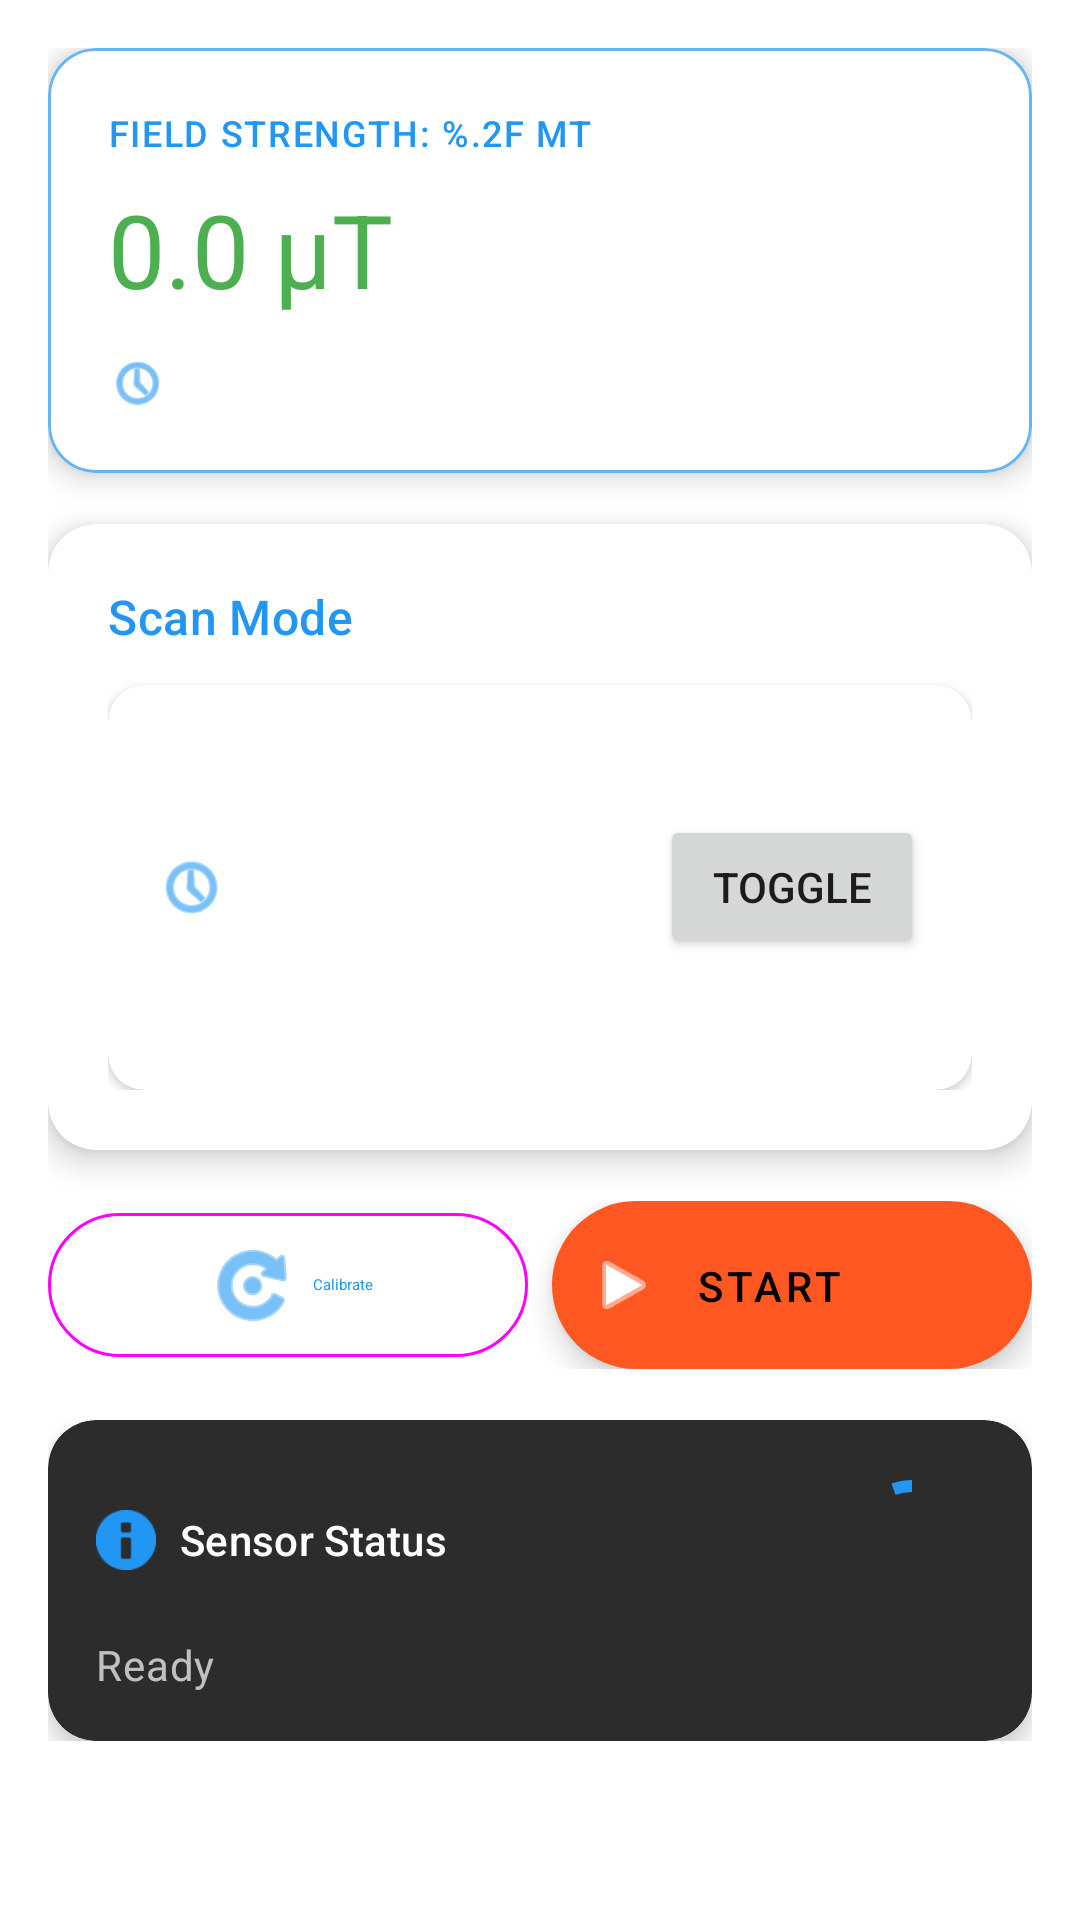

Named icons in this screenshot (1080w x 1920h) and their centers, (x,y):
info: (126,1540)
recent history: (137,383), (192,887)
